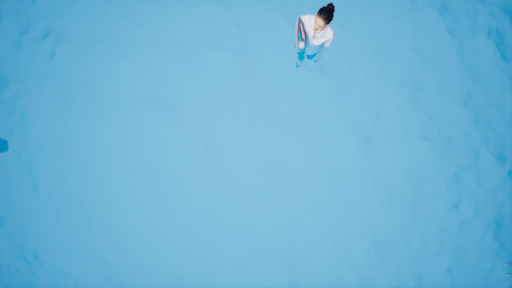person: (286, 5, 339, 69)
